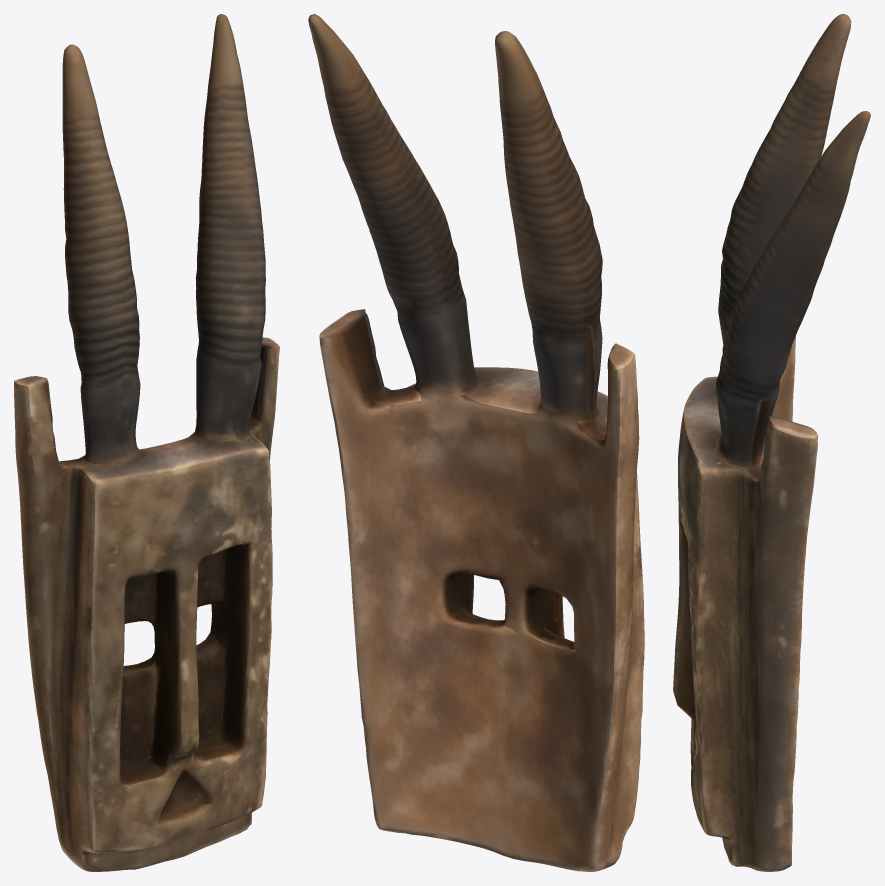
The model's file is Mon_Mask.glb.
3 renders of one model, left to right at view 1: azimuth 30°, elevation 25°; view 2: azimuth 150°, elevation 25°; view 3: azimuth 270°, elevation 25°, orthographic. The views are drawn at different scales.
Visible parts, largest first — view 1: Mesh0; view 2: Mesh0; view 3: Mesh0.
Boxes of the visible parts, x1=… form: Mesh0: x1=14, y1=14, x2=279, y2=871; Mesh0: x1=308, y1=14, x2=644, y2=871; Mesh0: x1=673, y1=14, x2=870, y2=871.
Bounding box in the file's own units: 0.6762 × 1.91 × 0.4283.
Materials: 1 (1 with a texture image).
